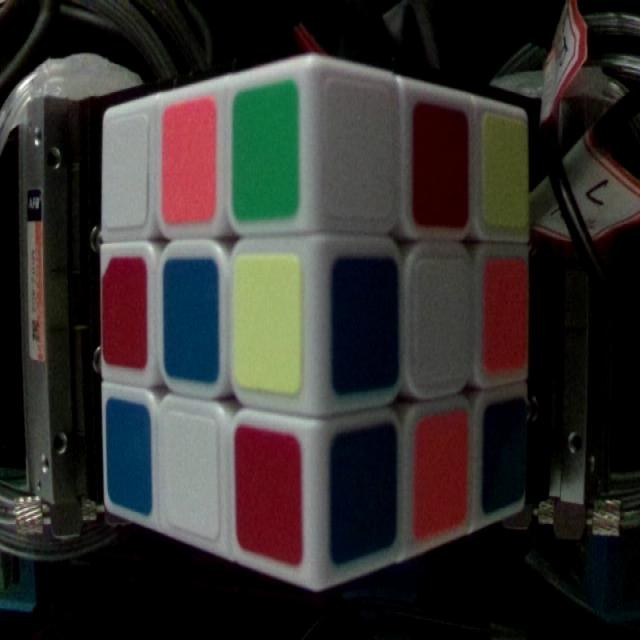b: (329, 259, 397, 391), (335, 426, 397, 556), (161, 263, 218, 375), (106, 402, 152, 508), (484, 398, 524, 504)
g: (235, 82, 296, 218)
o: (162, 102, 217, 218), (419, 412, 467, 528), (483, 259, 527, 363)
r: (237, 427, 301, 559), (411, 108, 468, 221), (101, 259, 147, 360)
w: (327, 84, 395, 209), (410, 255, 472, 378), (162, 415, 217, 528), (104, 116, 150, 233)
y: (235, 260, 301, 386), (482, 117, 528, 222)
